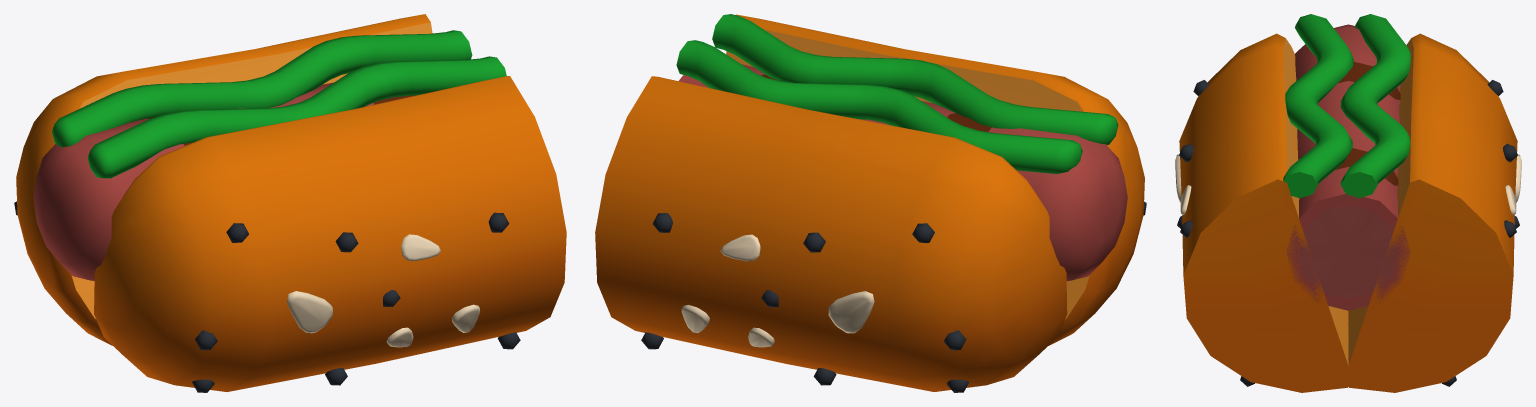
File: HotDog_bun_half_04.fbx
3 views of the same model, side by side, from view 1: azimuth 30°, elevation 25°; view 2: azimuth 150°, elevation 25°; view 3: azimuth 270°, elevation 25° (orthographic). The views are drawn at different scales.
Visible parts, largest first — view 1: HotDog_bun_half_04; view 2: HotDog_bun_half_04; view 3: HotDog_bun_half_04.
Part boxes in pixels (x1,y1,x2,y2): HotDog_bun_half_04: (14,14,566,392); HotDog_bun_half_04: (595,14,1146,392); HotDog_bun_half_04: (1175,14,1521,392).
Size of the model in its own units: 79.77 by 69.2 by 49.72.
